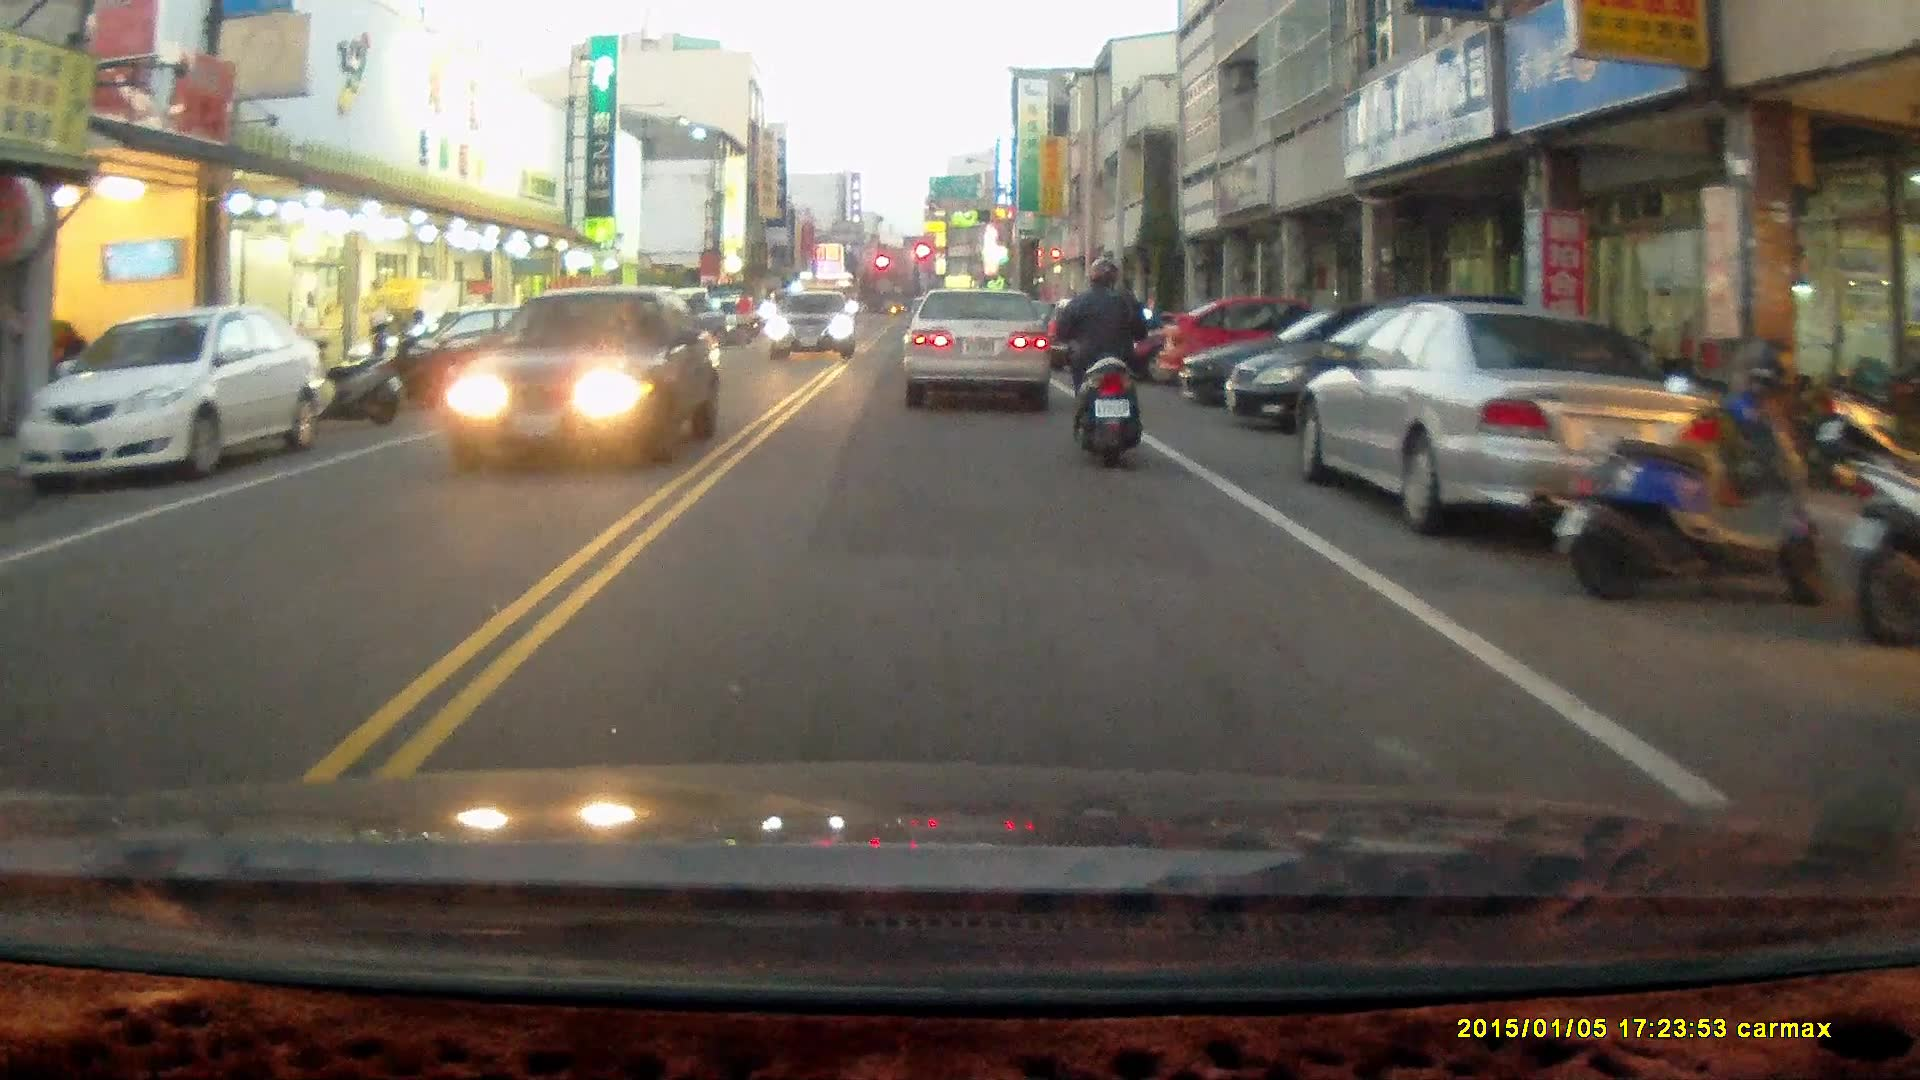pedestrian: (296, 289, 325, 363)
rider: (1050, 253, 1154, 463), (728, 285, 752, 346)
vehicle: (1298, 303, 1719, 541), (22, 298, 342, 480), (445, 287, 722, 474), (1221, 296, 1548, 442), (1172, 308, 1504, 409), (1156, 297, 1402, 393), (901, 286, 1053, 404), (764, 296, 857, 364)
